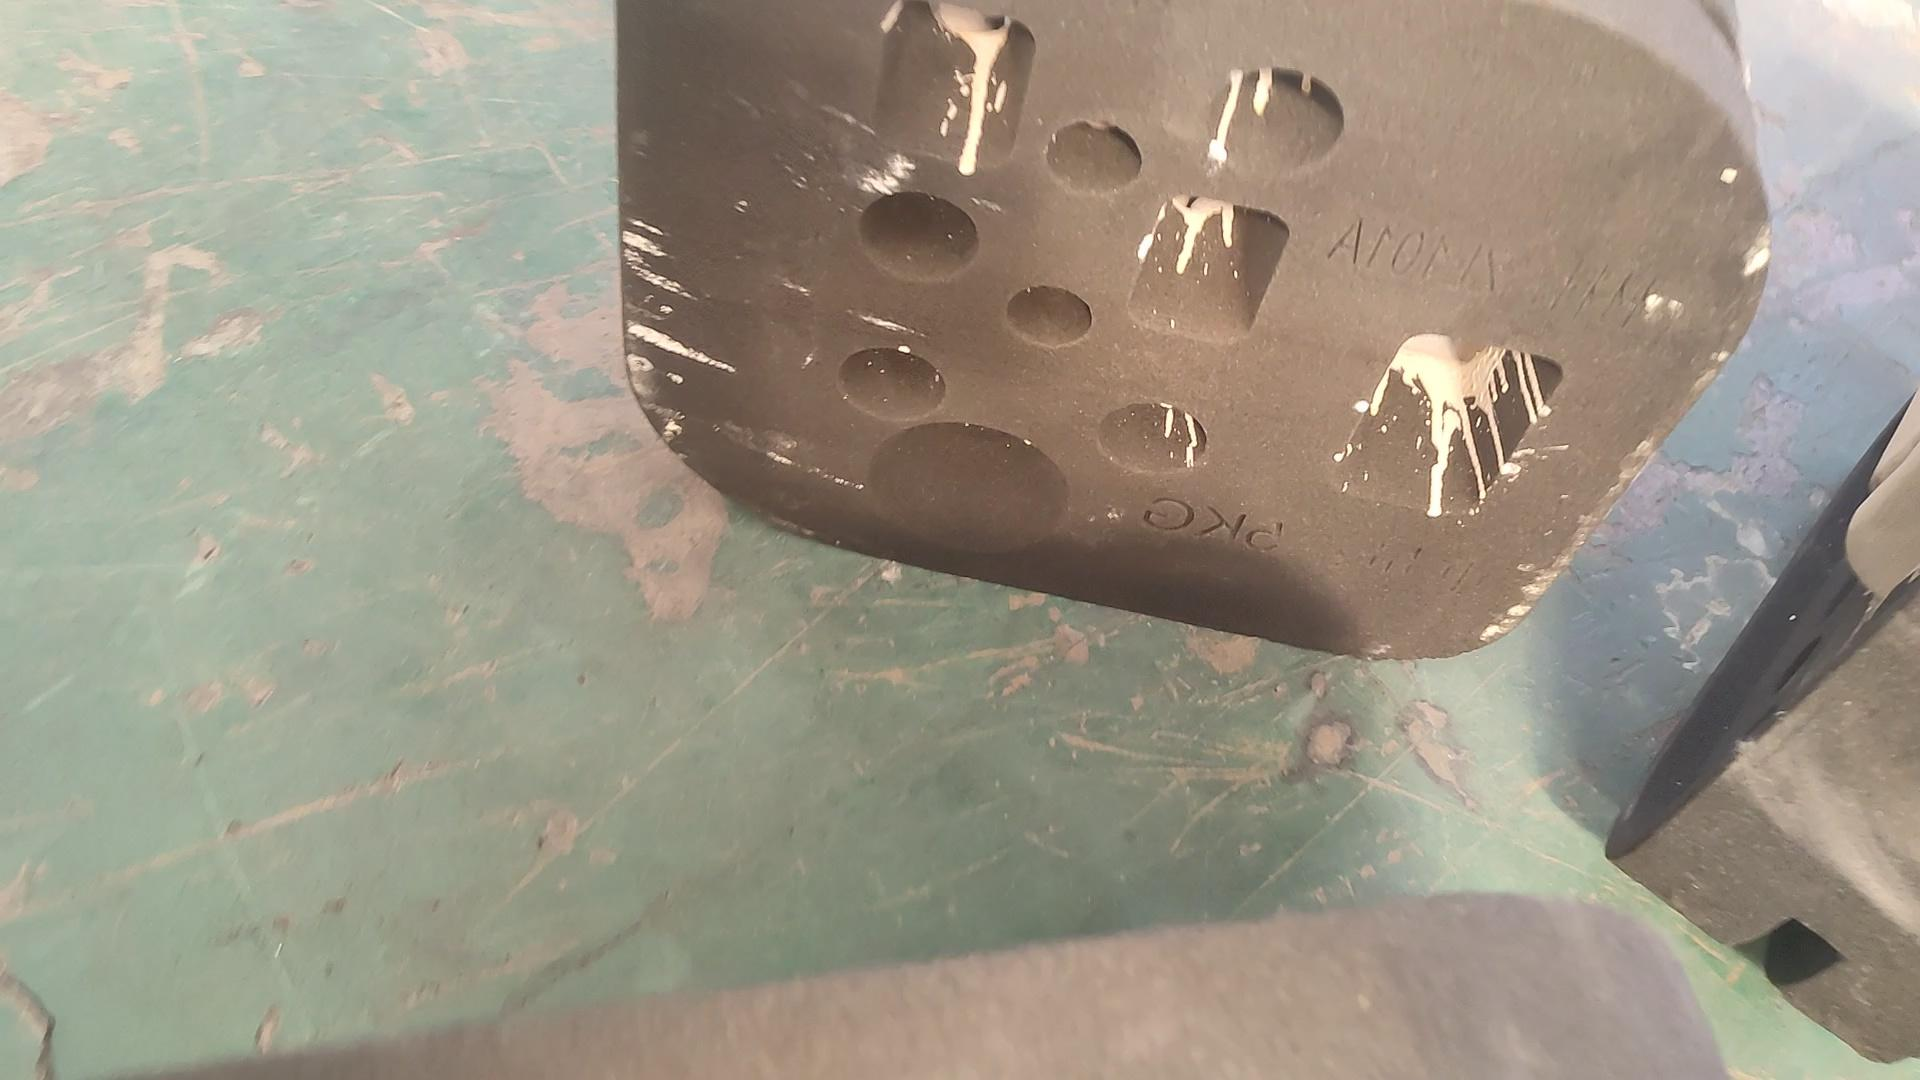pouring hole: (868, 423, 1069, 556)
